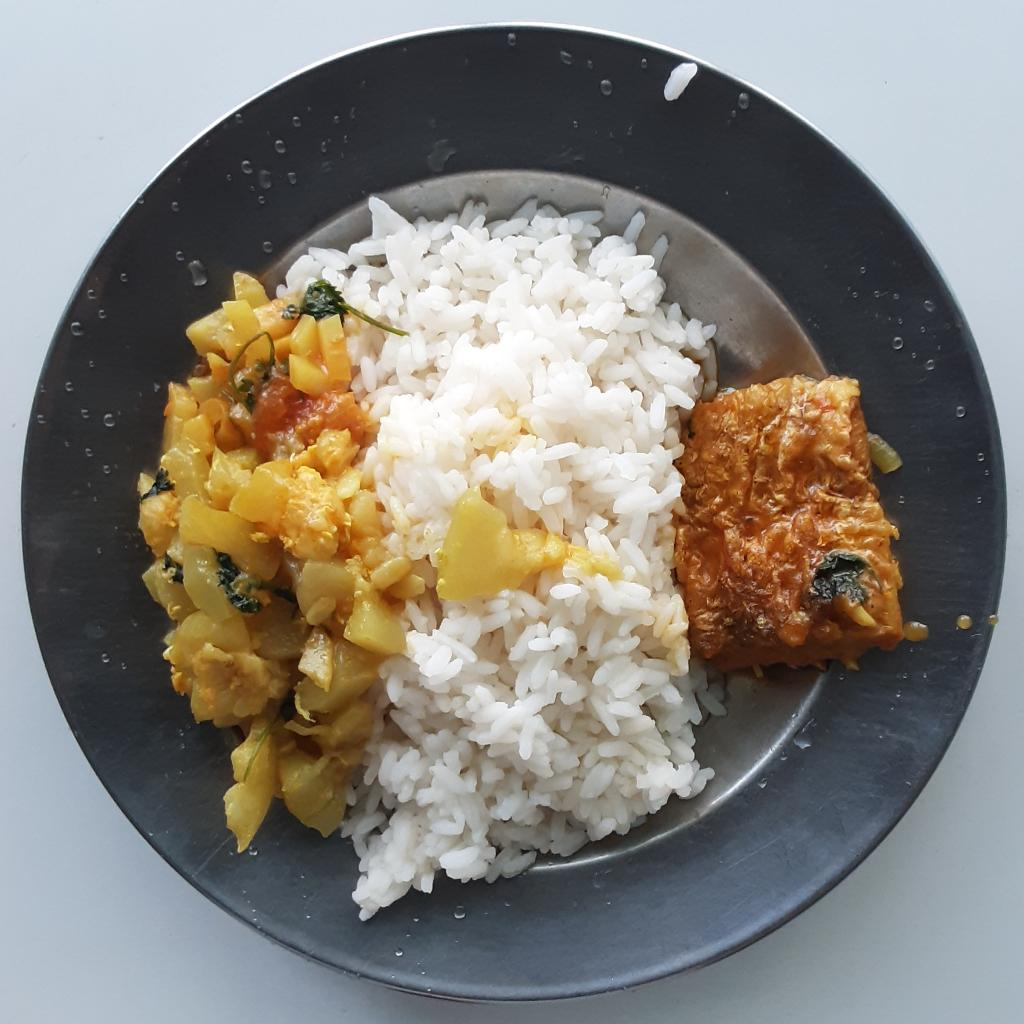fish: (679, 371, 906, 678)
lau: (136, 264, 568, 862)
rice: (275, 192, 725, 918)
